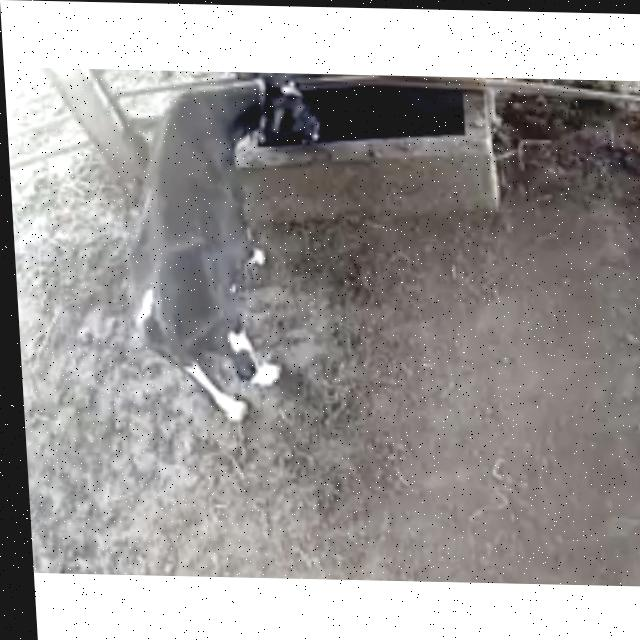drink: (159, 70, 336, 159)
